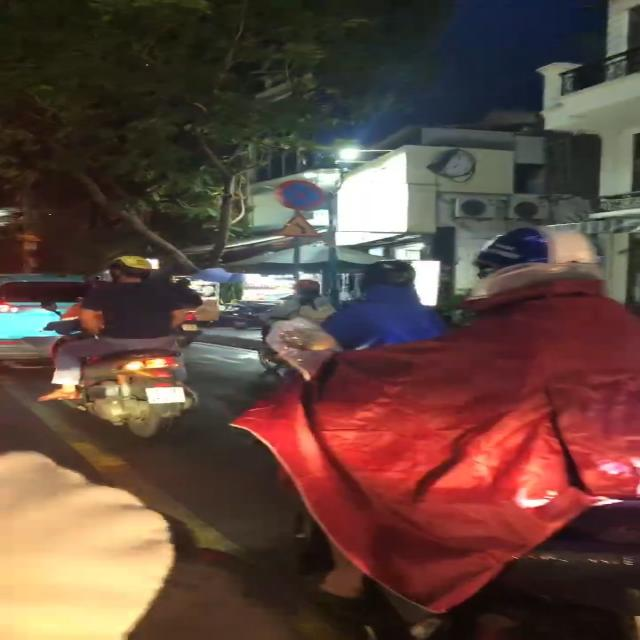Bien bao cho ngoat nguy hiem: (270, 210, 324, 240)
